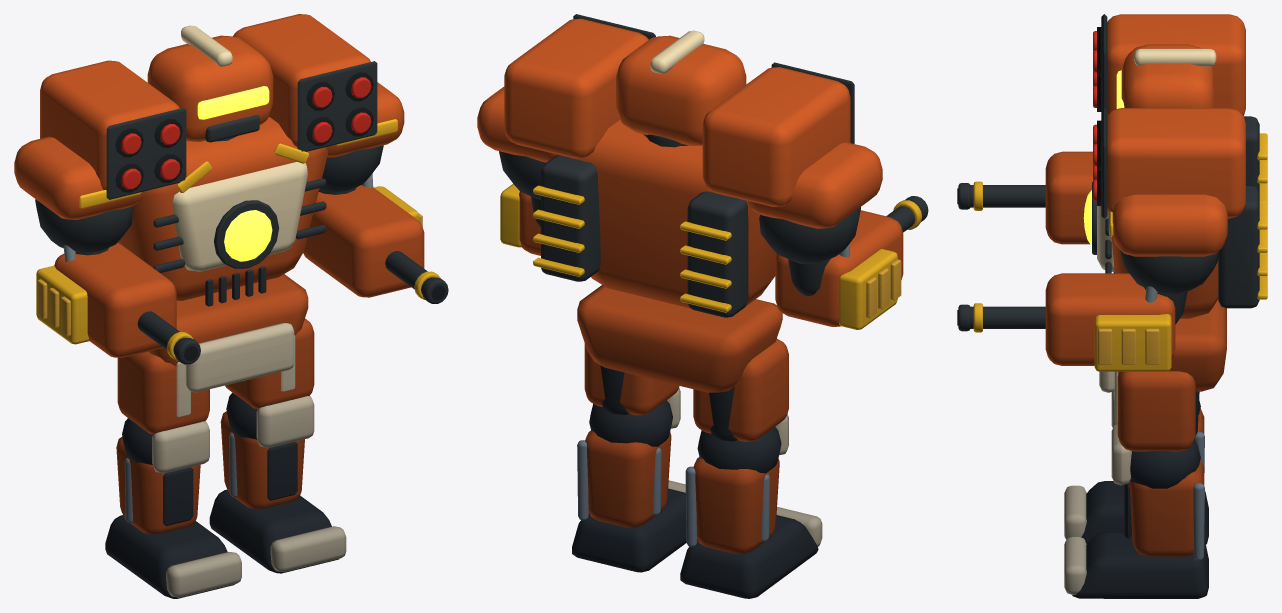
The model's file is rocketMech.glb.
The picture shows the model from 3 angles, left to right: view 1: azimuth 30°, elevation 25°; view 2: azimuth 150°, elevation 25°; view 3: azimuth 270°, elevation 25°; orthographic projection. The views are drawn at different scales.
Parts seen in each view (by area): view 1: Tapered chest.001, Gun gauntlet.003, Shoulder rocket magazine, Gun gauntlet.002, Chest breastplate.001, Command helmet.001, Shoulder rocket magazine.001, Armored pelvis.001, Shoulder pauldron.002, Hip skirt.001, Thigh armor.002, Armored foot.002 (+26 smaller); view 2: Tapered chest.001, Shoulder rocket magazine, Armored pelvis.001, Shoulder rocket magazine.001, Command helmet.001, Shin armor.003, Shin armor.002, Shoulder pauldron.002, Armored foot.002, Rear heat exchanger.002, Rear heat exchanger.003, Gun gauntlet.002 (+19 smaller); view 3: Shoulder rocket magazine.001, Shoulder rocket magazine, Gun gauntlet.003, Shoulder pauldron.003, Armored foot.003, Thigh armor.003, Shin armor.003, Command helmet.001, Gun gauntlet.002, Rear heat exchanger.003, Armored pelvis.001, Belt ammunition.003 (+18 smaller).
Boxes of the visible parts, x1=… form: Tapered chest.001: x1=117, y1=117, x2=327, y2=300; Gun gauntlet.003: x1=303, y1=185, x2=424, y2=297; Shoulder rocket magazine: x1=40, y1=60, x2=179, y2=190; Gun gauntlet.002: x1=54, y1=243, x2=176, y2=357; Chest breastplate.001: x1=172, y1=162, x2=307, y2=271; Command helmet.001: x1=147, y1=35, x2=273, y2=141; Shoulder rocket magazine.001: x1=233, y1=14, x2=370, y2=147; Armored pelvis.001: x1=149, y1=274, x2=308, y2=366; Shoulder pauldron.002: x1=14, y1=136, x2=144, y2=219; Hip skirt.001: x1=185, y1=323, x2=294, y2=392; Thigh armor.002: x1=117, y1=351, x2=209, y2=434; Armored foot.002: x1=105, y1=515, x2=234, y2=598; Tapered chest.001: x1=558, y1=120, x2=776, y2=307; Shoulder rocket magazine: x1=702, y1=67, x2=850, y2=206; Armored pelvis.001: x1=577, y1=285, x2=782, y2=392; Shoulder rocket magazine.001: x1=504, y1=18, x2=648, y2=158; Command helmet.001: x1=616, y1=35, x2=746, y2=145; Shin armor.003: x1=585, y1=430, x2=671, y2=527; Shin armor.002: x1=693, y1=457, x2=779, y2=554; Shoulder pauldron.002: x1=747, y1=142, x2=882, y2=228; Armored foot.002: x1=680, y1=515, x2=818, y2=598; Rear heat exchanger.002: x1=687, y1=191, x2=748, y2=317; Rear heat exchanger.003: x1=541, y1=155, x2=600, y2=281; Gun gauntlet.002: x1=775, y1=210, x2=903, y2=326; Shoulder rocket magazine.001: x1=1107, y1=108, x2=1245, y2=218; Shoulder rocket magazine: x1=1107, y1=14, x2=1245, y2=115; Gun gauntlet.003: x1=1045, y1=273, x2=1175, y2=365; Shoulder pauldron.003: x1=1112, y1=194, x2=1227, y2=256; Armored foot.003: x1=1072, y1=532, x2=1208, y2=598; Thigh armor.003: x1=1117, y1=371, x2=1195, y2=451; Shin armor.003: x1=1129, y1=459, x2=1204, y2=556; Command helmet.001: x1=1121, y1=44, x2=1214, y2=107; Gun gauntlet.002: x1=1045, y1=151, x2=1092, y2=244; Rear heat exchanger.003: x1=1218, y1=186, x2=1259, y2=308; Armored pelvis.001: x1=1118, y1=299, x2=1226, y2=391; Belt ammunition.003: x1=1094, y1=314, x2=1171, y2=371.
Bounding box in the file's own units: 4.03 × 5.46 × 3.02.
9 materials, 7 textured.
